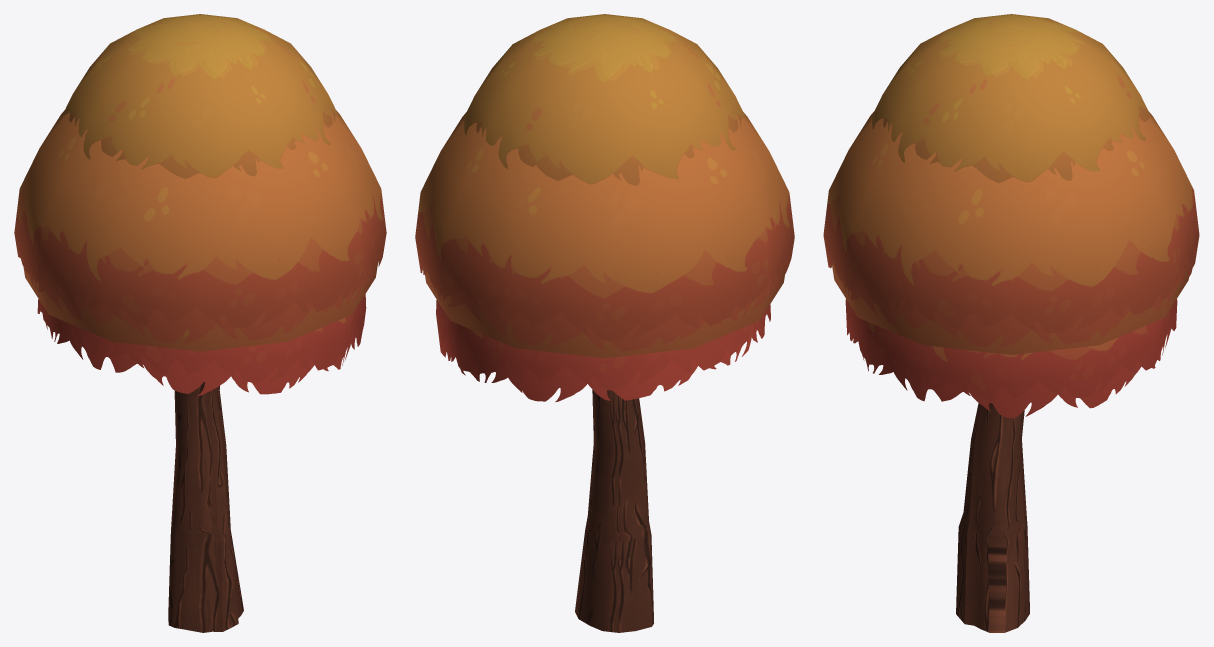
Rendered from Small Tree.FBX.
3 views of the same model, side by side, from view 1: azimuth 30°, elevation 25°; view 2: azimuth 150°, elevation 25°; view 3: azimuth 270°, elevation 25° (orthographic).
Visible parts, largest first — view 1: Cylinder003; view 2: Cylinder003; view 3: Cylinder003.
Boxes of the visible parts, <box> form: Cylinder003: <box>14,14,386,632</box>; Cylinder003: <box>415,14,794,632</box>; Cylinder003: <box>823,14,1199,632</box>.
Size of the model in its own units: 22.99 by 39.75 by 22.99.
